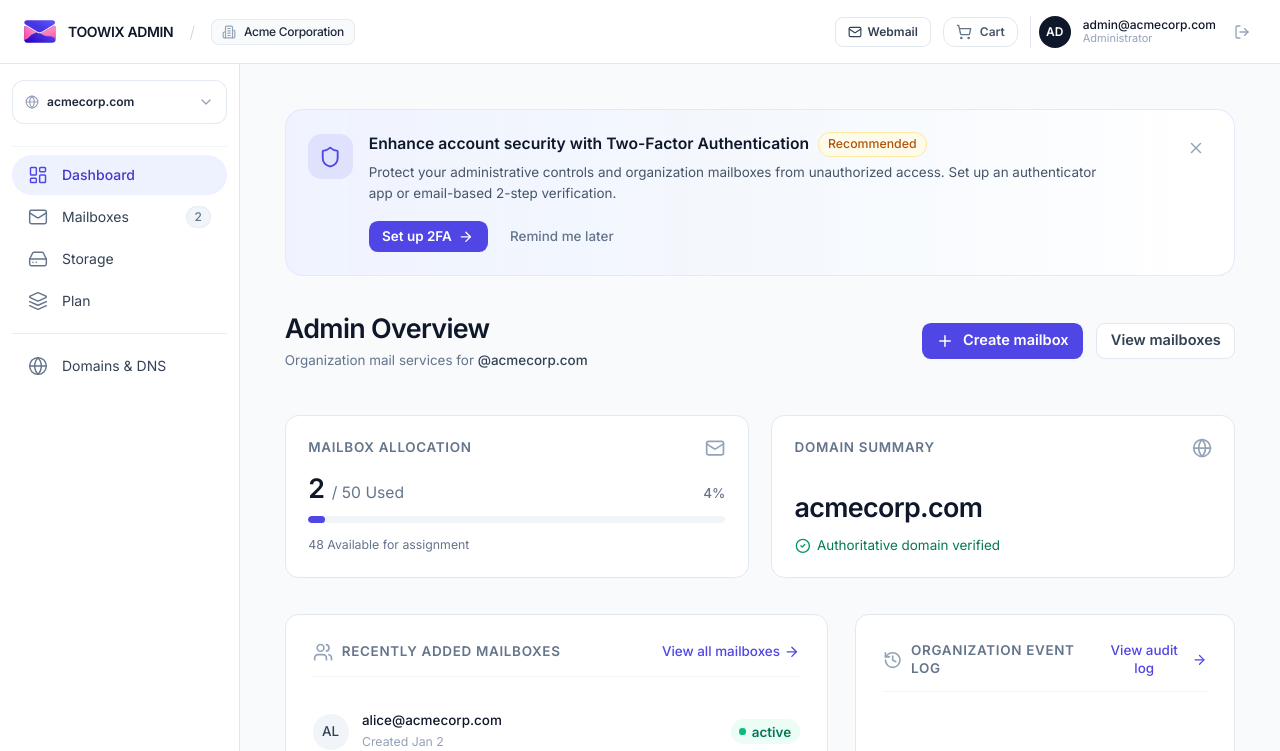
it: TenantAdminDashboard Component › 2FA Setup Removable Notification › clicking Storage in the sidebar switches navigation to the Storage view
The width and height of the screenshot is (1280, 751).
What coordinates should you click on to do the following:
click the button "Storage"
I would click on:
 (120, 259)
Its box is [12,239,227,279].
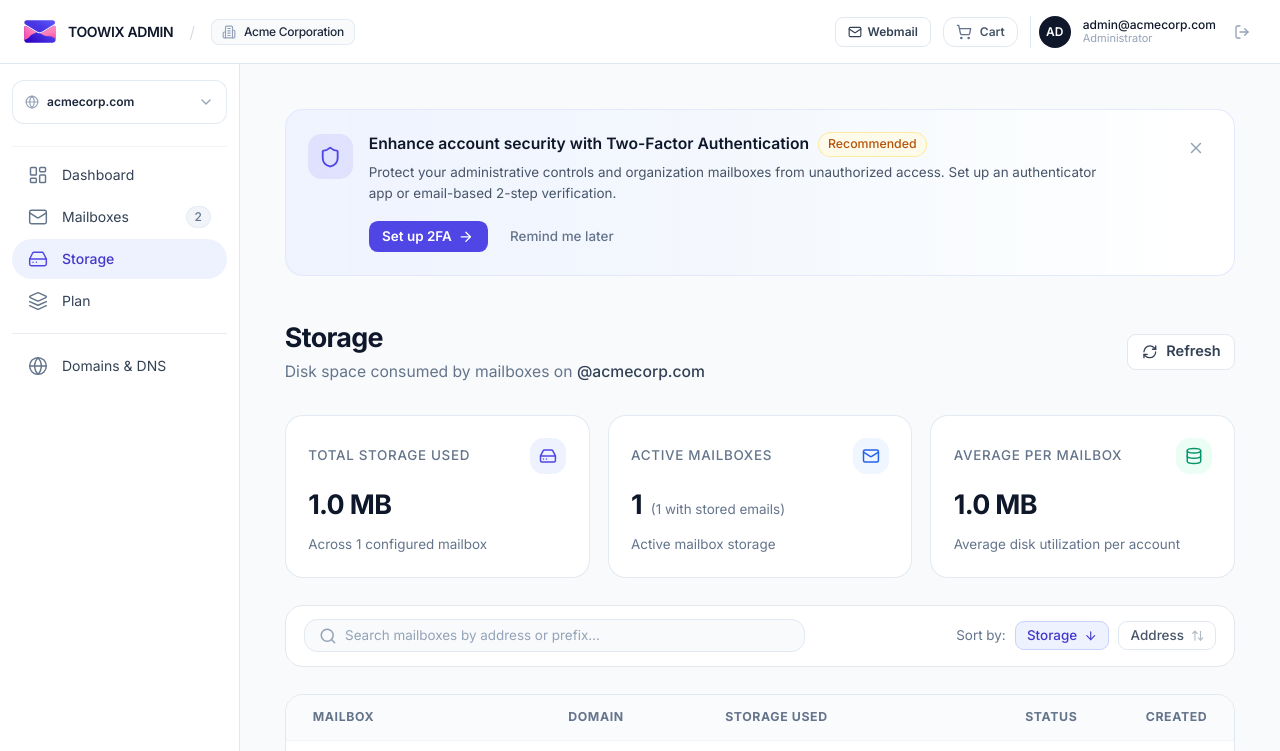
Check: the text "Total Storage Used" is shown, box [308,447,470,465]
Check: the text "Average per Mailbox" is shown, box [954,447,1122,465]
